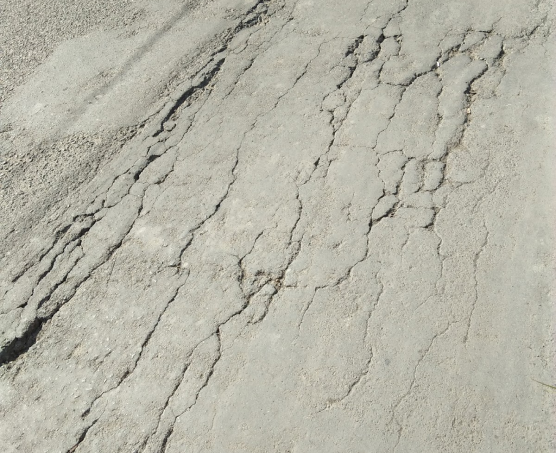Retak Buaya: (229, 217, 482, 385), (285, 156, 501, 335), (318, 66, 497, 240), (179, 323, 437, 442), (136, 376, 421, 453), (341, 4, 545, 111), (189, 7, 279, 85), (9, 257, 92, 322), (1, 283, 58, 370), (101, 174, 179, 221), (43, 228, 113, 279), (157, 75, 225, 126), (123, 118, 186, 173), (74, 204, 145, 252), (149, 278, 196, 327), (63, 401, 105, 453), (165, 228, 198, 274), (124, 338, 165, 370), (223, 154, 246, 194), (90, 377, 130, 397), (58, 213, 83, 235), (207, 194, 235, 211), (192, 215, 220, 228)
